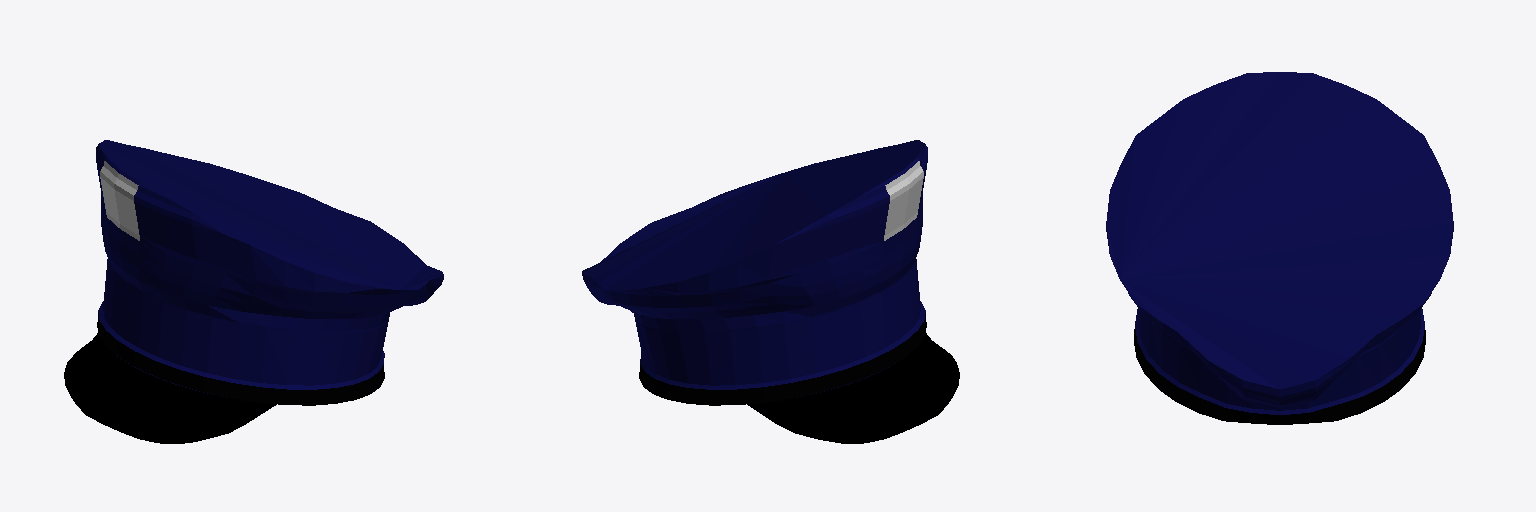
The model's file is gorroPolicia.obj.
The picture shows the model from 3 angles: view 1: azimuth 30°, elevation 25°; view 2: azimuth 150°, elevation 25°; view 3: azimuth 270°, elevation 25°; orthographic projection.
Parts seen in each view (by area): view 1: Hat_Circle; view 2: Hat_Circle; view 3: Hat_Circle.
Part boxes in pixels (left/top/right/bottom): Hat_Circle: left=64, top=140, right=443, bottom=443; Hat_Circle: left=582, top=140, right=959, bottom=443; Hat_Circle: left=1106, top=72, right=1453, bottom=424.
Size of the model in its own units: 4.67 by 3.11 by 4.13.